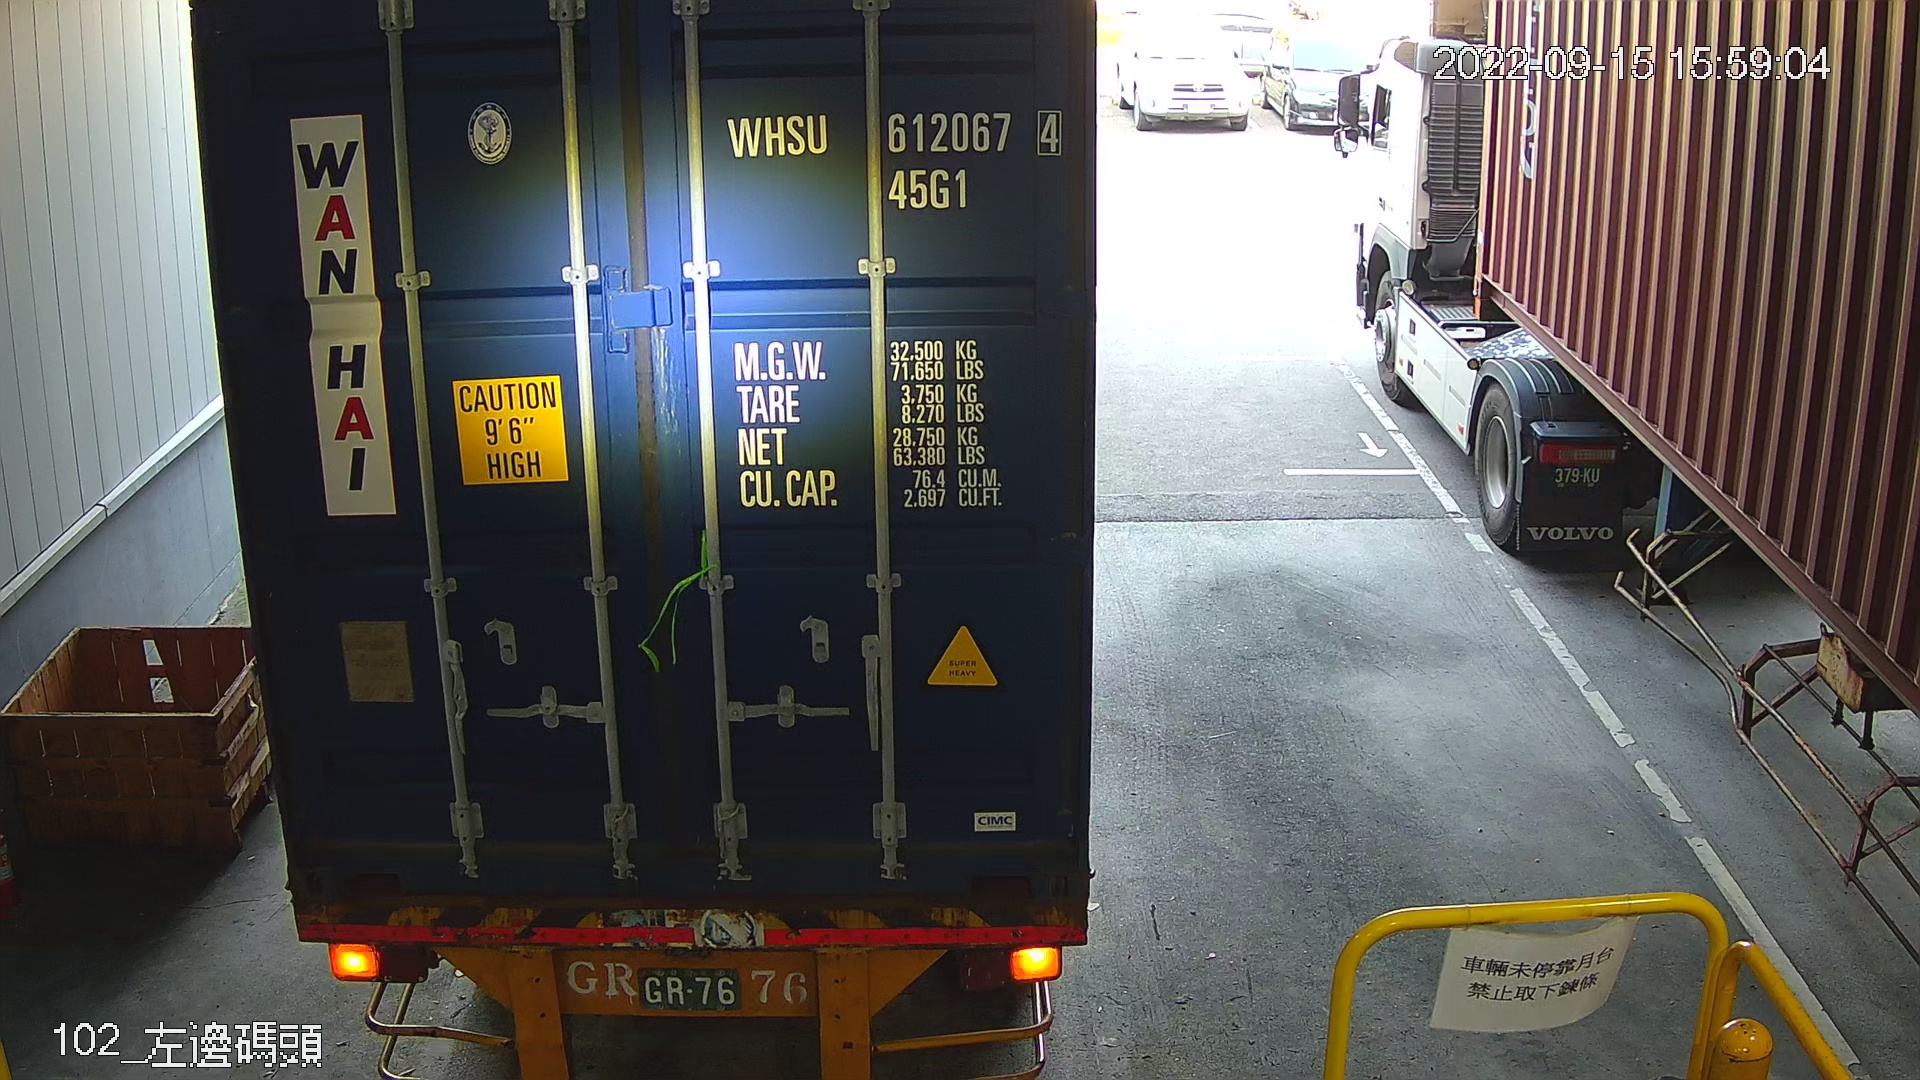container: (713, 102, 1072, 224)
